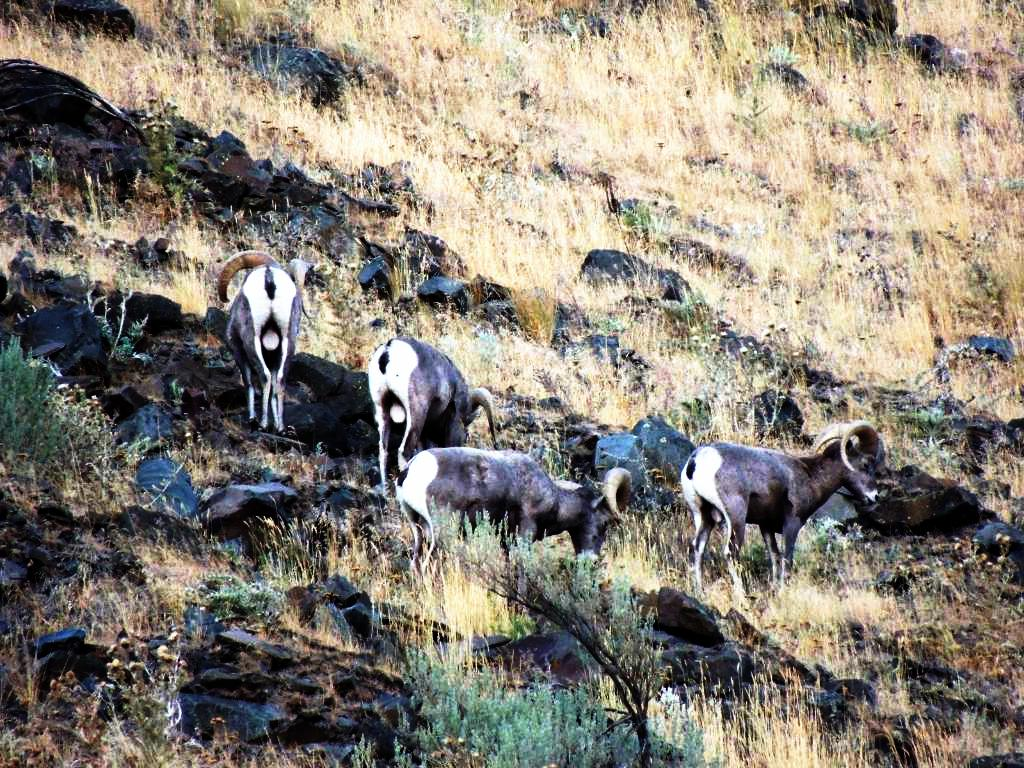Sheep: (682, 420, 882, 606), (394, 451, 630, 574), (364, 338, 496, 502), (214, 248, 309, 432)
